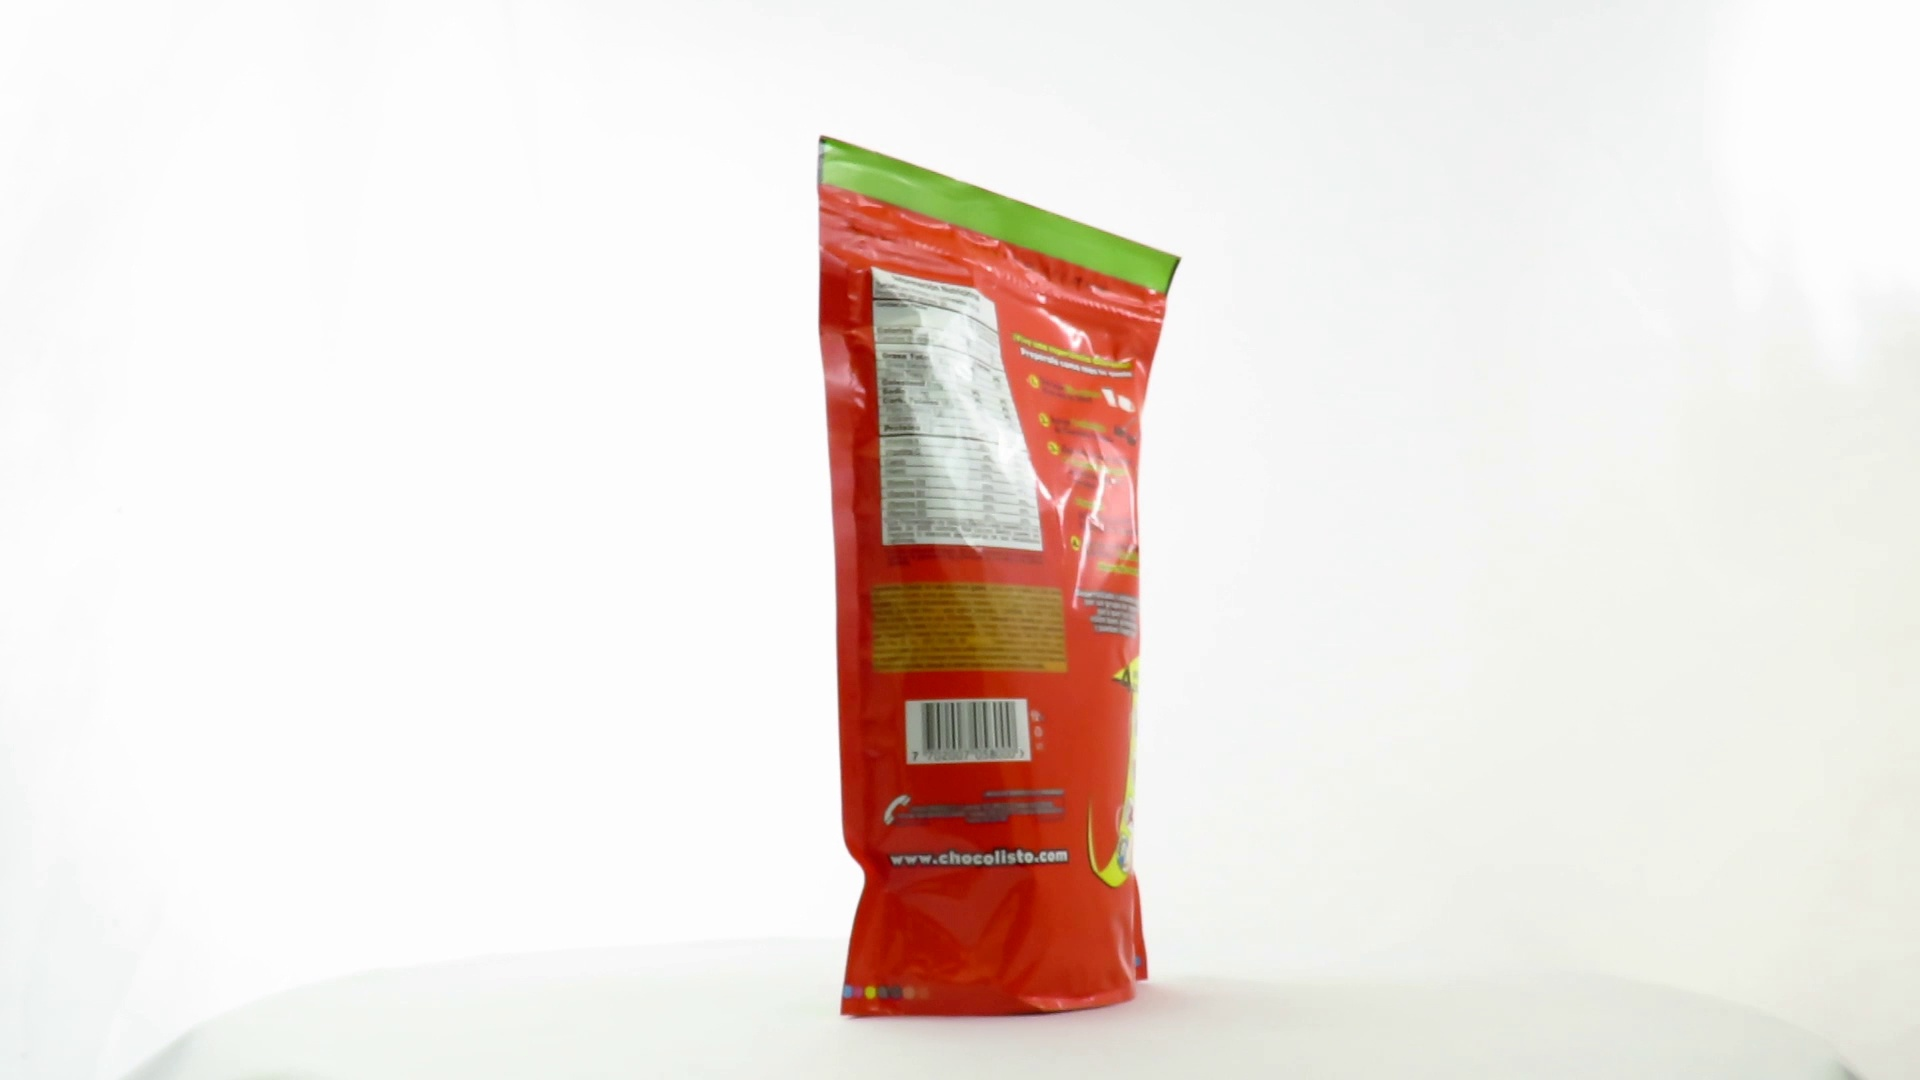COL0170102DYP50000: (812, 131, 1187, 1026)
